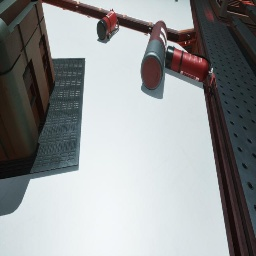FireExtinguisher ]: (164, 46, 217, 90), (97, 8, 119, 40), (210, 71, 212, 73)
NitrogenTank ,: (141, 20, 168, 90)
